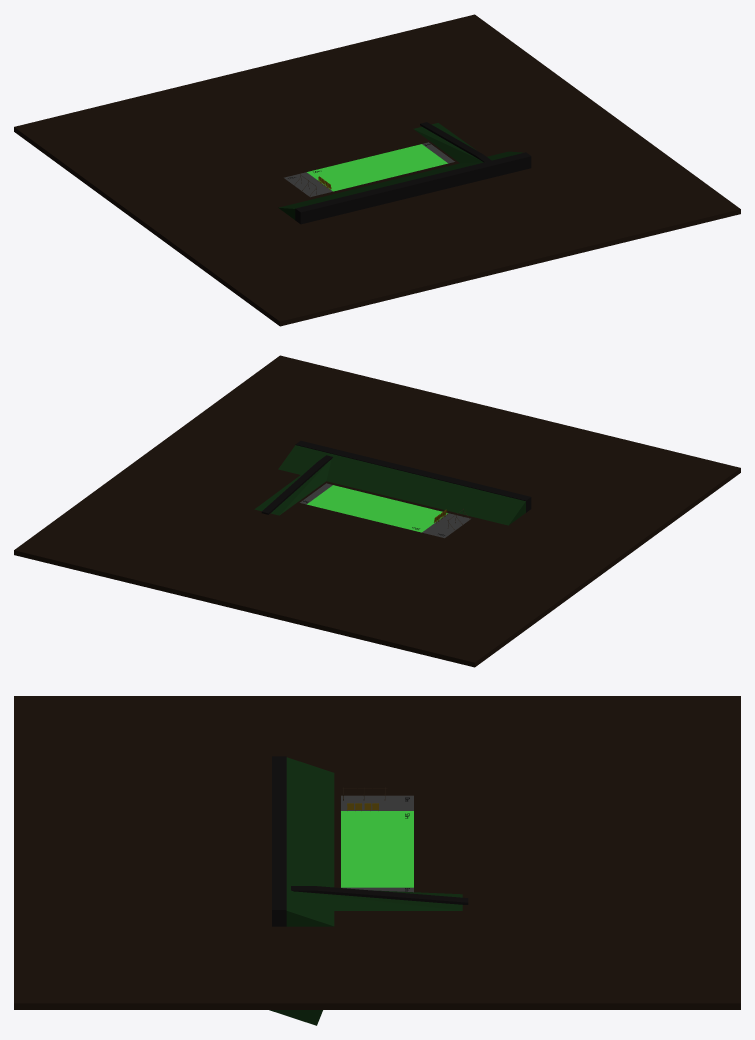
Rendered from フィールド.obj.
3 views of the same model, one above another, from view 1: azimuth 30°, elevation 25°; view 2: azimuth 150°, elevation 25°; view 3: azimuth 270°, elevation 25° (orthographic). The views are drawn at different scales.
Parts seen in each view (by area): view 1: 地面, 道路, 50m, Cube.001, 土手通路斜面, 10m, 土手通路; view 2: 地面, Cube.001, 50m, 道路, 土手通路斜面, 土手通路, 10m; view 3: 地面, Cube.001, 50m, 道路, 土手通路斜面, 土手通路, 10m.
Part boxes in pixels (left/top/right/bottom): 地面: left=14, top=14, right=740, bottom=326; 道路: left=295, top=152, right=531, bottom=224; 50m: left=307, top=144, right=447, bottom=191; Cube.001: left=278, top=151, right=523, bottom=219; 土手通路斜面: left=413, top=123, right=482, bottom=163; 10m: left=284, top=172, right=332, bottom=197; 土手通路: left=420, top=122, right=491, bottom=162; 地面: left=14, top=355, right=740, bottom=667; Cube.001: left=278, top=445, right=525, bottom=525; 50m: left=307, top=485, right=447, bottom=532; 道路: left=295, top=440, right=531, bottom=512; 土手通路斜面: left=254, top=459, right=331, bottom=515; 土手通路: left=261, top=455, right=332, bottom=514; 10m: left=422, top=513, right=470, bottom=538; 地面: left=14, top=696, right=740, bottom=1009; Cube.001: left=269, top=757, right=334, bottom=1025; 50m: left=341, top=811, right=413, bottom=887; 道路: left=272, top=756, right=286, bottom=926; 土手通路斜面: left=295, top=890, right=462, bottom=910; 土手通路: left=291, top=886, right=468, bottom=904; 10m: left=341, top=795, right=413, bottom=810.
Bounding box in the file's own units: 200 × 35.18 × 200.
